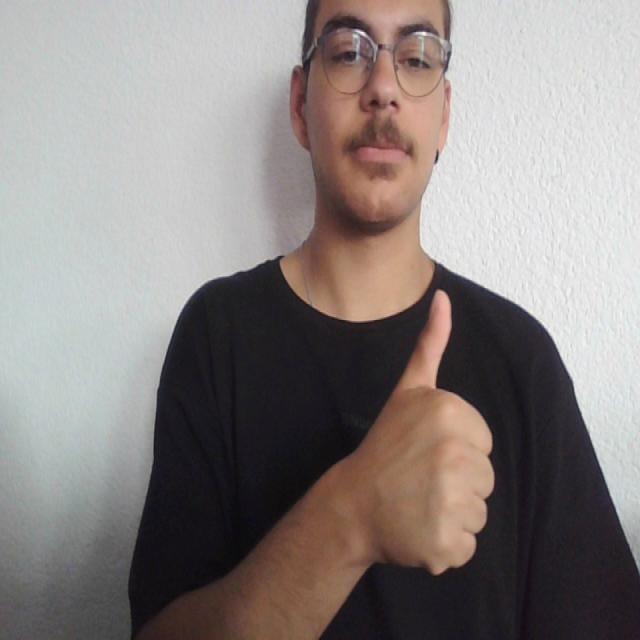Tamam: (344, 284, 499, 580)
